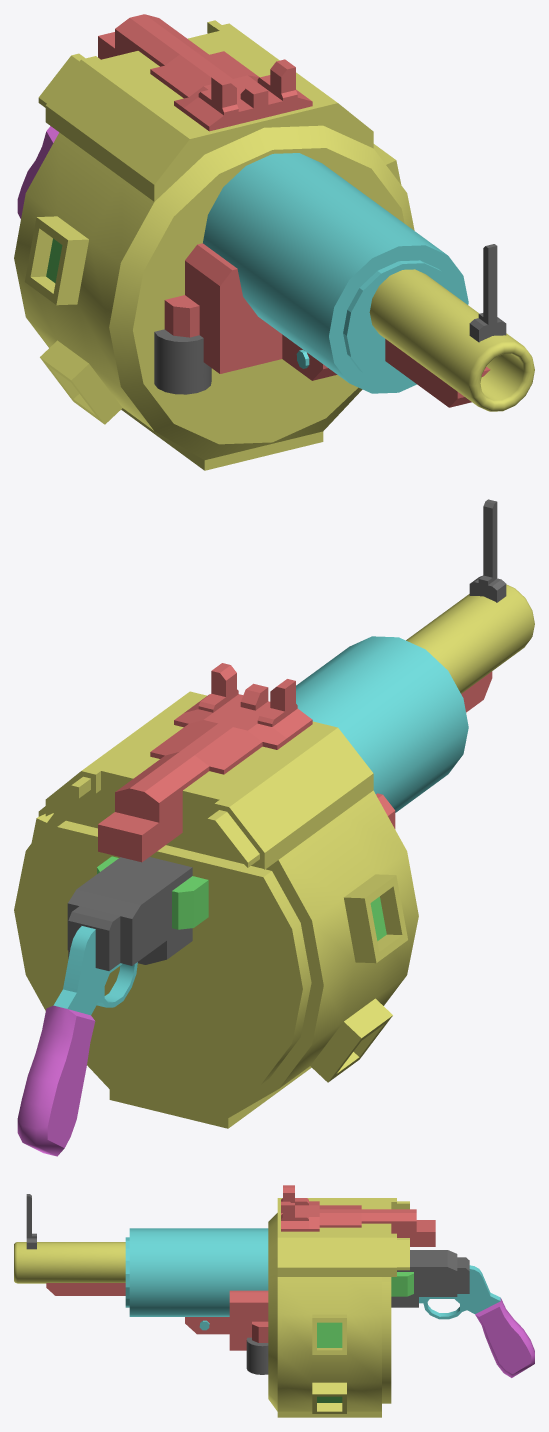
Rendered from Proyectile_GrenadeLauncher.fbx.
3 renders of one model, top to bottom at view 1: azimuth 30°, elevation 25°; view 2: azimuth 150°, elevation 25°; view 3: azimuth 270°, elevation 25°, orthographic. The views are drawn at different scales.
Parts seen in each view (by area): view 1: Proyectile_GrenadeLauncher; view 2: Proyectile_GrenadeLauncher; view 3: Proyectile_GrenadeLauncher.
Boxes of the visible parts, x1,y1,x2,y2 form: Proyectile_GrenadeLauncher: (14,14,534,470); Proyectile_GrenadeLauncher: (14,499,534,1156); Proyectile_GrenadeLauncher: (14,1185,534,1417).
Size of the model in its own units: 0.4915 by 0.5031 by 1.15.
